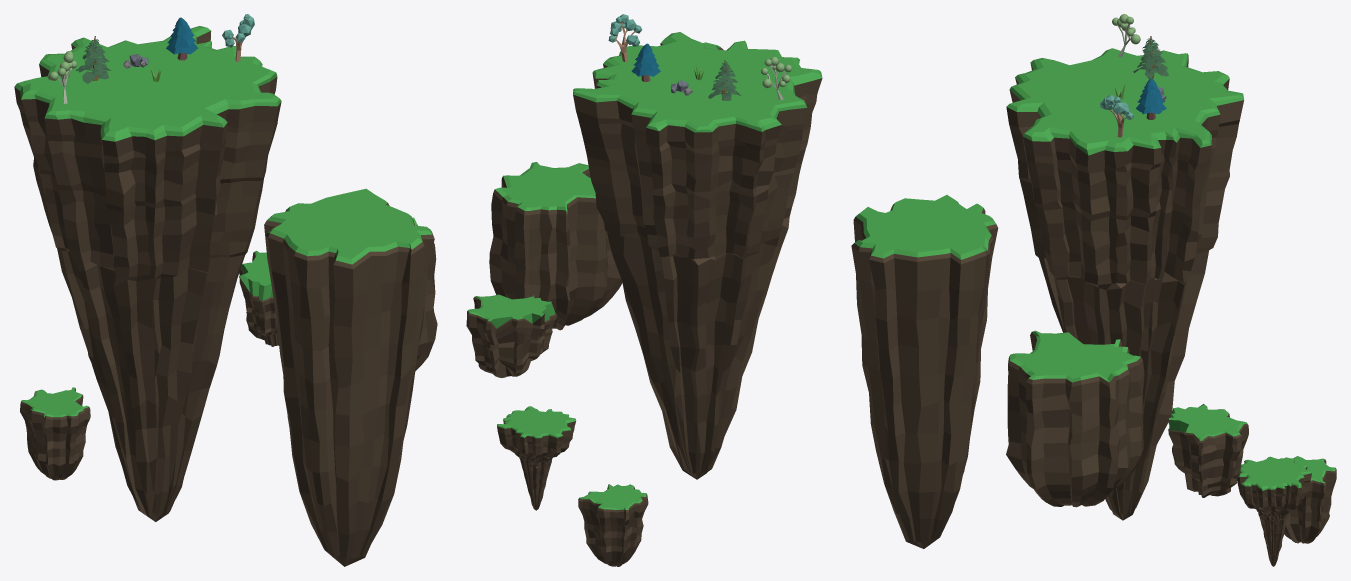
The model's file is Cliff1.fbx.
3 renders of one model, left to right at view 1: azimuth 30°, elevation 25°; view 2: azimuth 150°, elevation 25°; view 3: azimuth 270°, elevation 25°, orthographic. The views are drawn at different scales.
Parts seen in each view (by area): view 1: Cliff_Main, Cliff3, Cliff2.002, Cliff2.001, Cliff2, leaves4, leaves3; view 2: Cliff_Main, Cliff2, Cliff2.001, Cliff2.002, Cliff_Main.001, leaves4, leaves3, leaves1, leaves2; view 3: Cliff_Main, Cliff3, Cliff2, Cliff2.001, Cliff_Main.001, Cliff2.002, leaves4, leaves3.
Boxes of the visible parts, x1,y1,x2,y2 form: Cliff_Main: (14, 26, 281, 521); Cliff3: (264, 188, 434, 566); Cliff2.002: (20, 387, 90, 480); Cliff2.001: (239, 250, 278, 346); Cliff2: (412, 217, 437, 370); leaves4: (76, 39, 111, 83); leaves3: (166, 17, 198, 54); Cliff_Main: (573, 32, 822, 479); Cliff2: (489, 162, 622, 330); Cliff2.001: (466, 294, 557, 377); Cliff2.002: (578, 484, 648, 566); Cliff_Main.001: (497, 406, 576, 510); leaves4: (708, 62, 741, 100); leaves3: (631, 43, 660, 76); leaves1: (608, 14, 642, 46); leaves2: (761, 56, 791, 88); Cliff_Main: (1006, 48, 1243, 520); Cliff3: (851, 195, 998, 548); Cliff2: (1006, 330, 1144, 507); Cliff2.001: (1168, 404, 1248, 497); Cliff_Main.001: (1237, 456, 1311, 566); Cliff2.002: (1280, 456, 1336, 543); leaves4: (1133, 38, 1168, 78); leaves3: (1136, 78, 1166, 114).
Bounding box in the file's own units: 5072 × 7015 × 6312.
